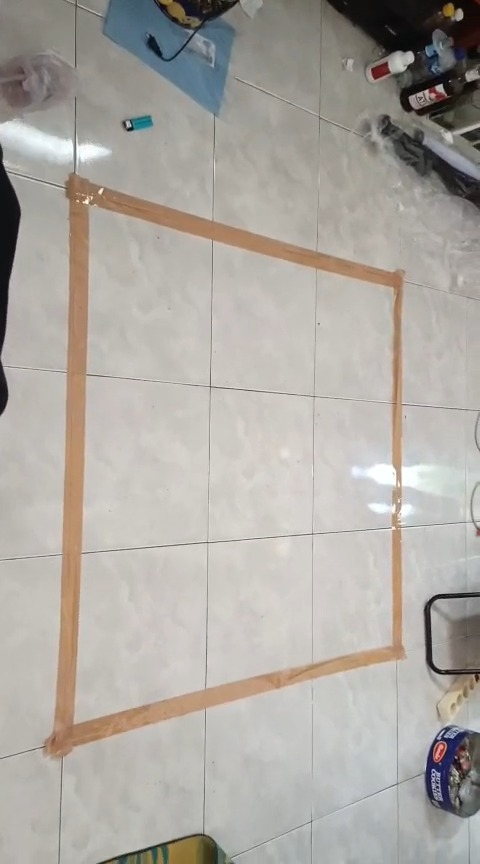floor marking: (45, 174, 401, 755)
